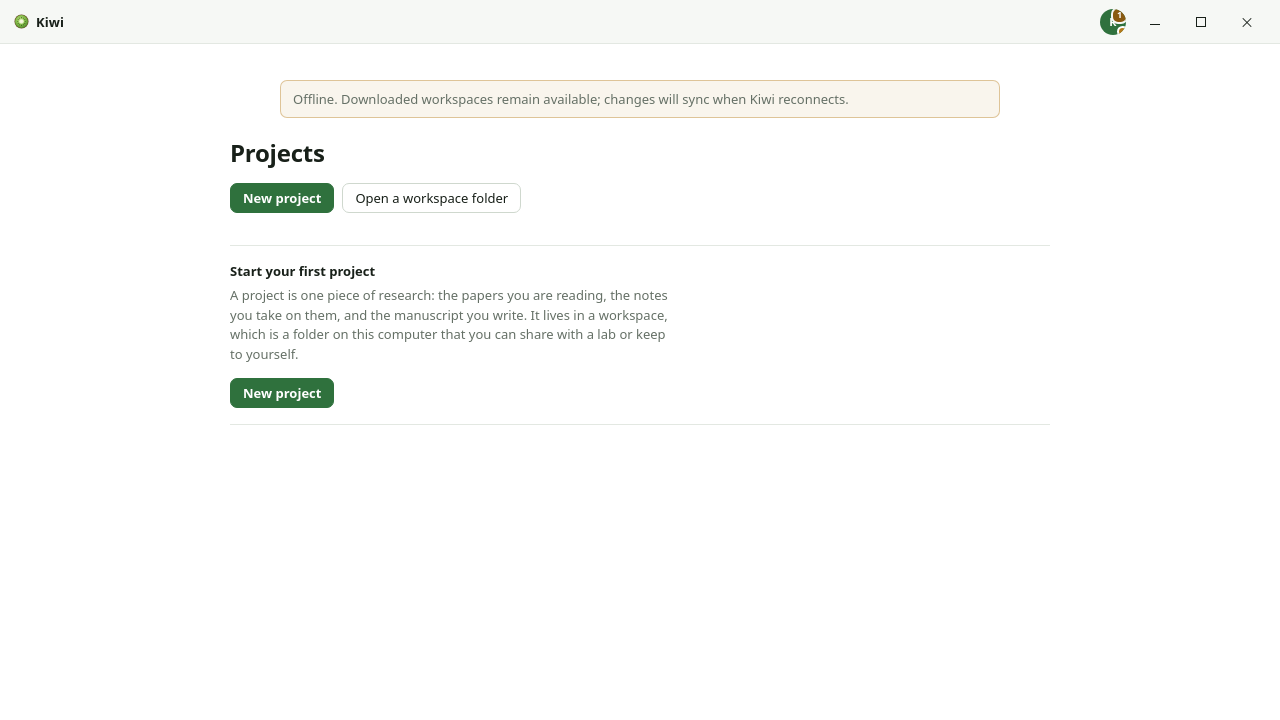
it: App › keeps unsynchronized work only after an explicit sign-out decision
What coordinates should you click on to do the following:
click the button named "Account reader@example.test"
I would click on:
 (1113, 22)
Its box is x1=1100 y1=8 x2=1126 y2=34.
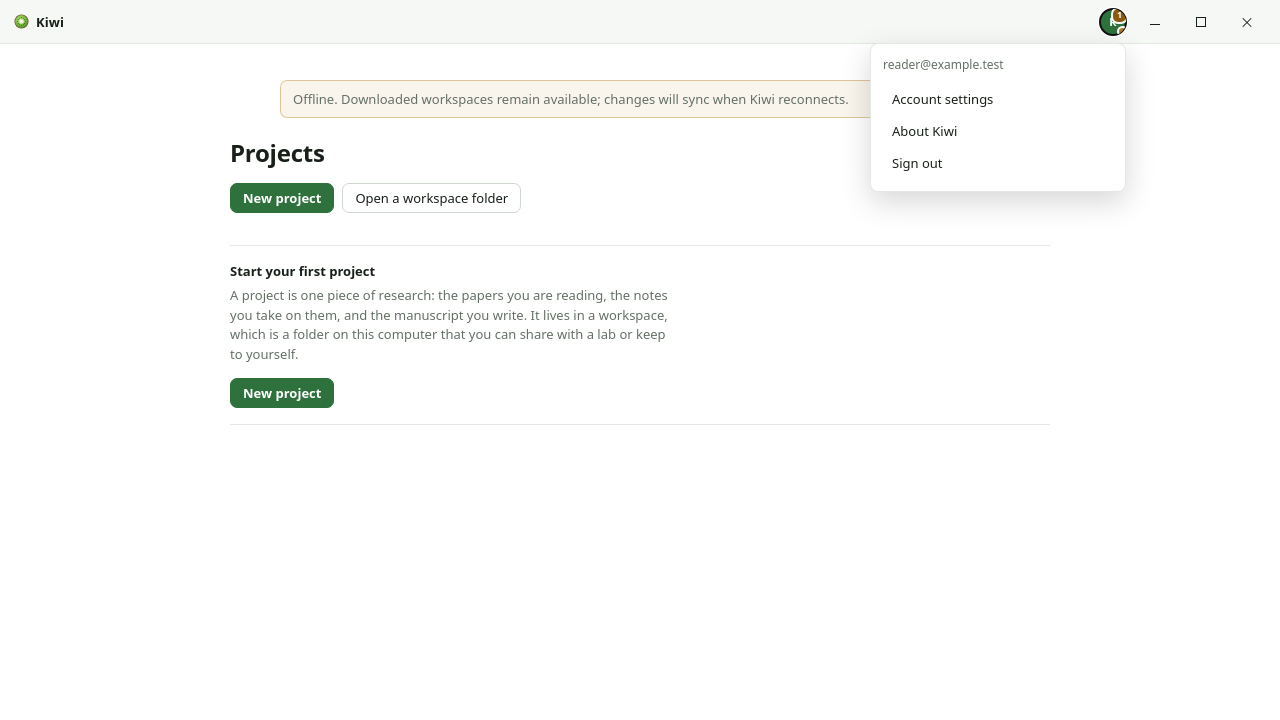
What coordinates should you click on to do the following:
click the button "Sign out"
I would click on:
 (998, 162)
Its box is x1=883 y1=146 x2=1113 y2=178.
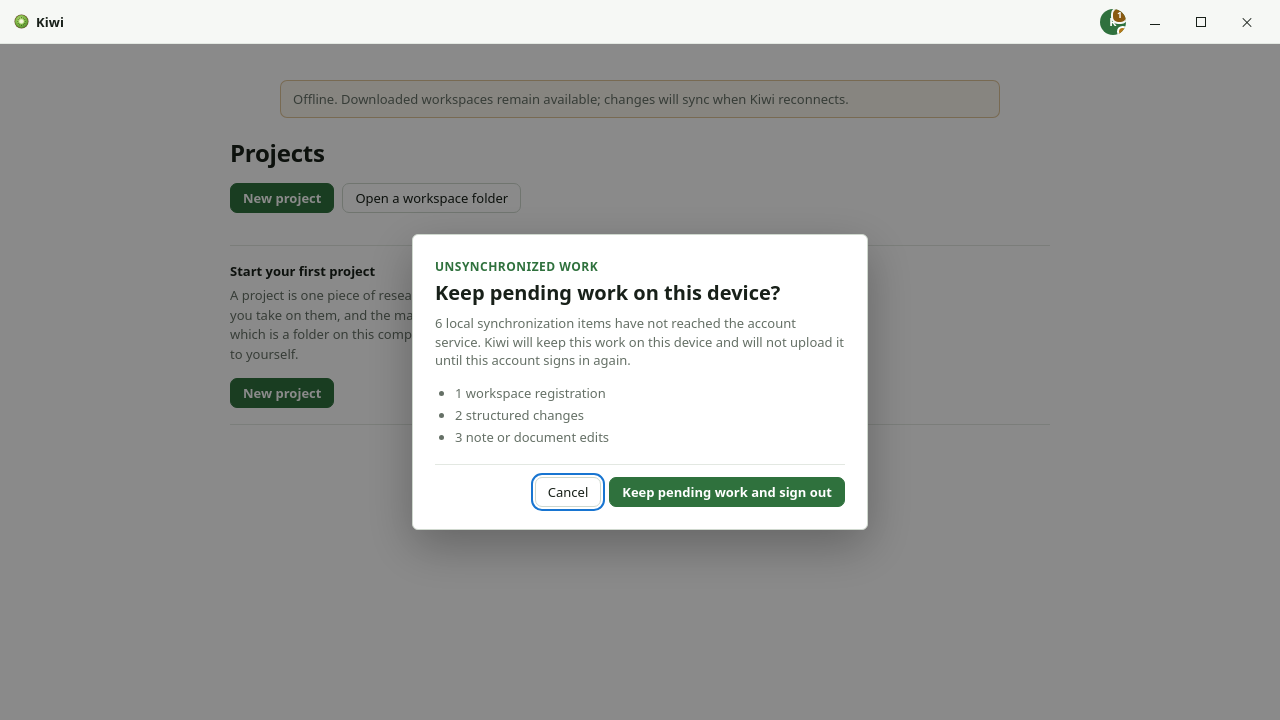
Now the dialog "Keep pending work on this device?" shows "6 local synchronization items", box x1=412 y1=234 x2=868 y2=530
Now the dialog "Keep pending work on this device?" shows "2 structured changes", box x1=412 y1=234 x2=868 y2=530
Now the dialog "Keep pending work on this device?" shows "3 note or document edits", box x1=412 y1=234 x2=868 y2=530
What coordinates should you click on to do the following:
click the button "Cancel"
I would click on:
 (568, 492)
Its box is x1=535 y1=477 x2=601 y2=507.
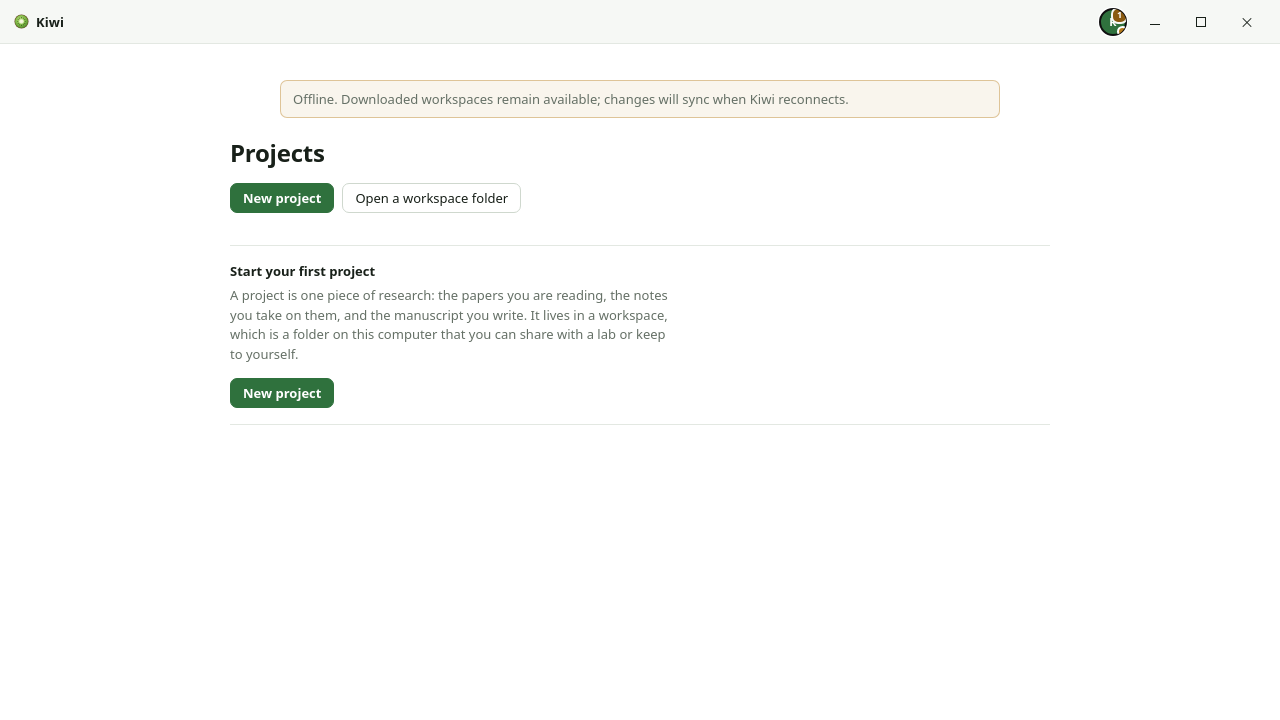
Now the dialog is gone
What coordinates should you click on to do the following:
click the button named "Account reader@example.test"
I would click on:
 (1113, 22)
Its box is x1=1100 y1=8 x2=1126 y2=34.
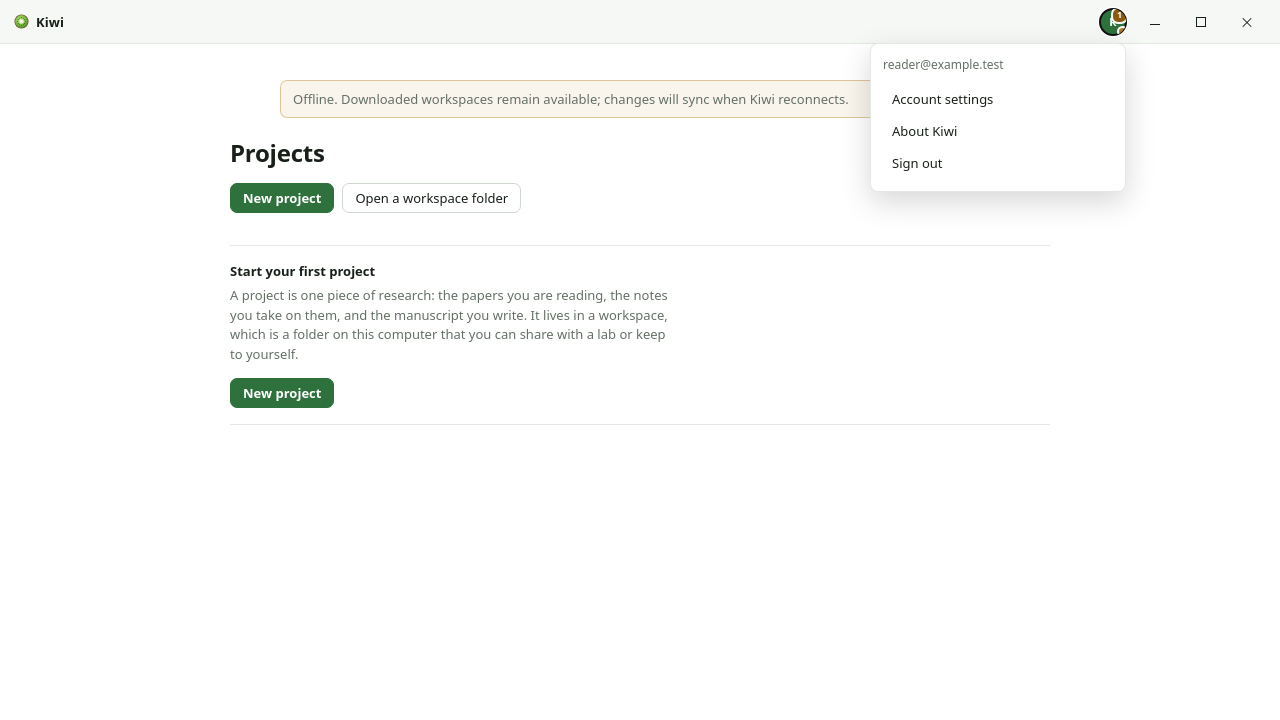
What coordinates should you click on to do the following:
click the button "Sign out"
I would click on:
 (998, 162)
Its box is x1=883 y1=146 x2=1113 y2=178.
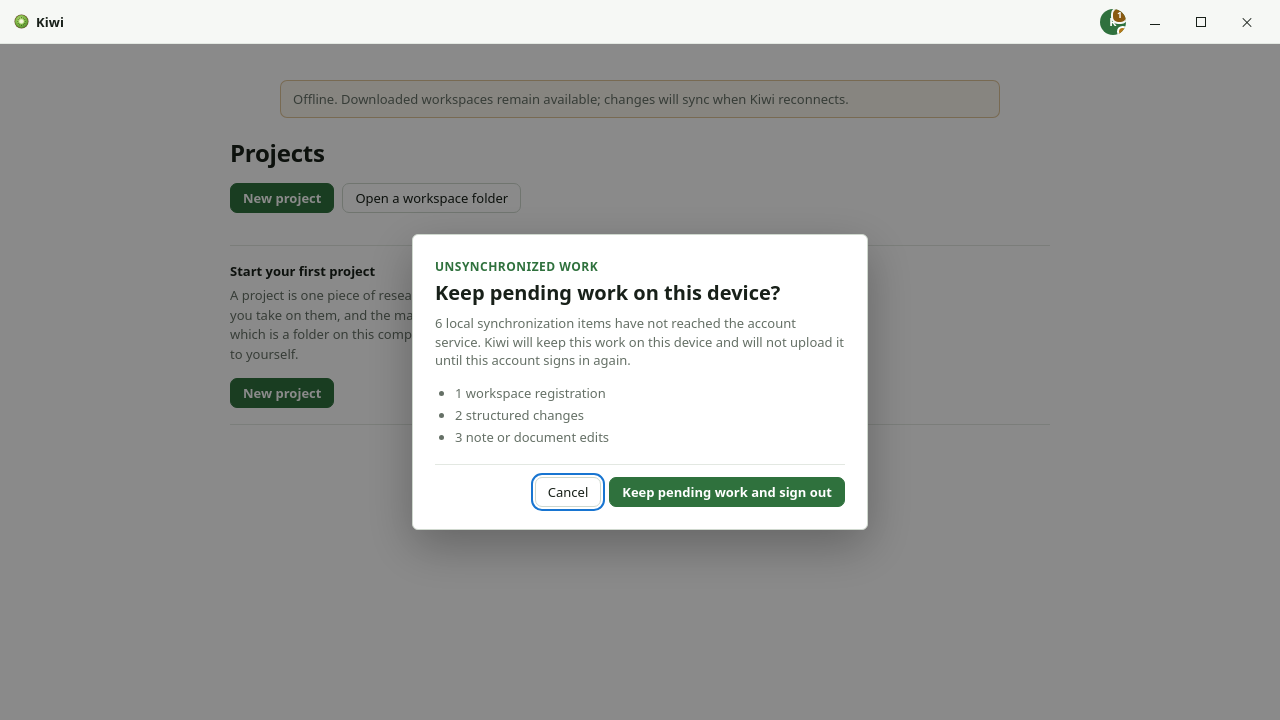
What coordinates should you click on to do the following:
click the button "Keep pending work and sign out"
I would click on:
 (727, 492)
Its box is x1=609 y1=477 x2=845 y2=507.
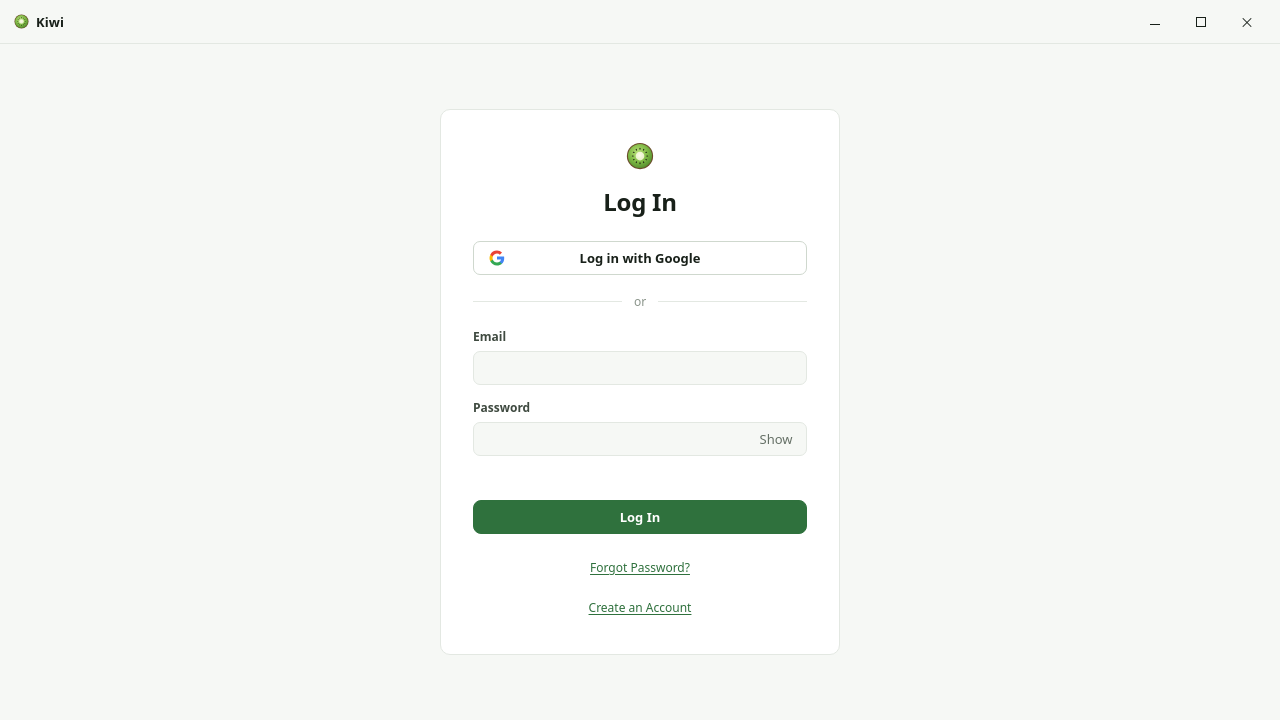
Now the heading "Log In" is shown, box x1=603 y1=185 x2=677 y2=218
